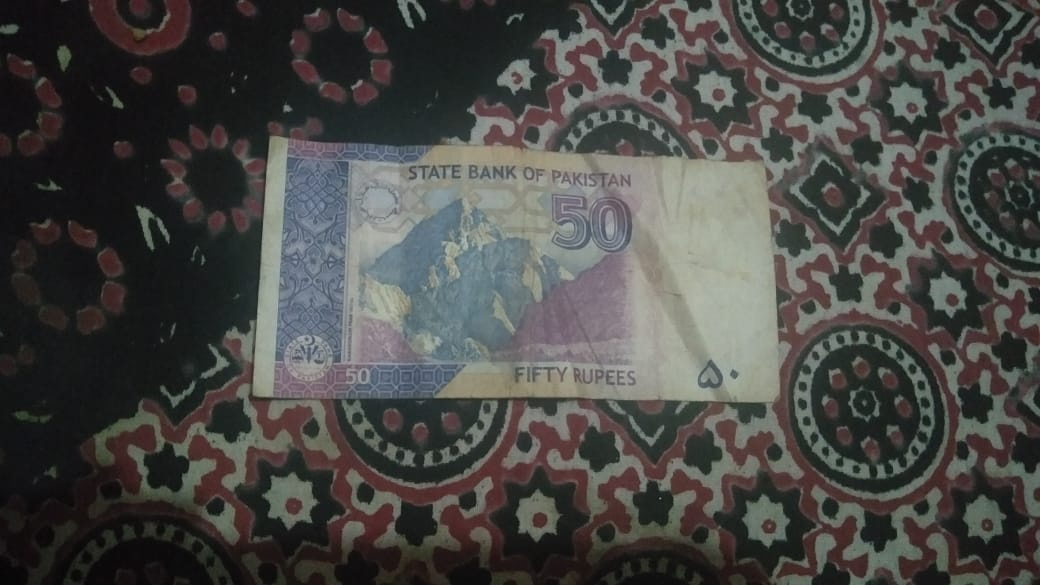50 rupee: (242, 119, 799, 420)
